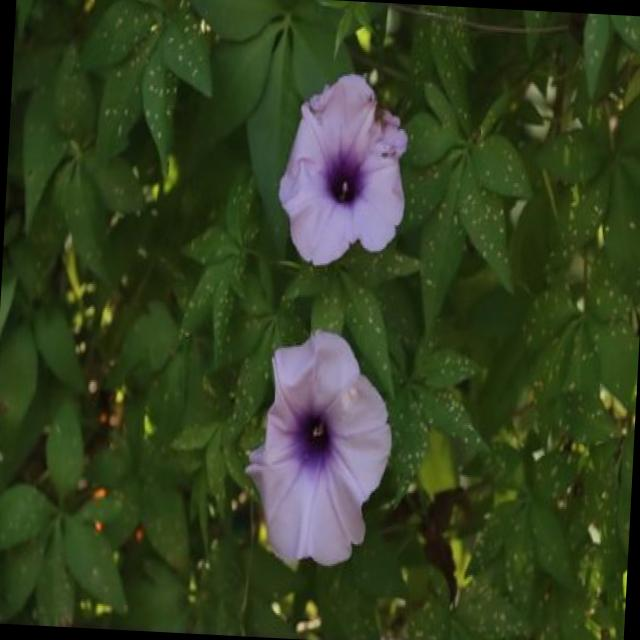ipomoea: (238, 321, 402, 573), (272, 64, 416, 274)
